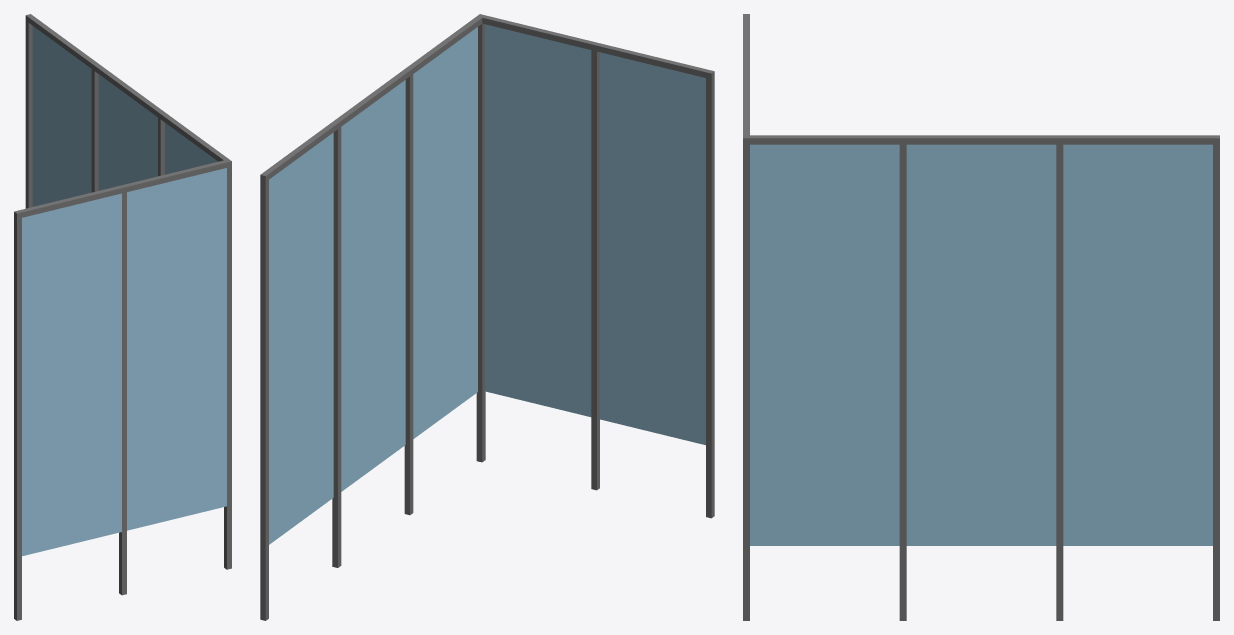
The model's file is Blind.fbx.
The picture shows the model from 3 angles, left to right: view 1: azimuth 30°, elevation 25°; view 2: azimuth 150°, elevation 25°; view 3: azimuth 270°, elevation 25°; orthographic projection. The views are drawn at different scales.
Parts seen in each view (by area): view 1: Plane, Plane.001, Cube, Plane.004, Plane.003, Plane.002; view 2: Plane.001, Plane, Cube, Plane.004, Plane.002, Plane.003; view 3: Plane.003, Plane.002, Plane.004, Cube.
Boxes of the visible parts, x1=… form: Plane: x1=22, y1=193, x2=121, y2=556; Plane.001: x1=127, y1=168, x2=226, y2=530; Cube: x1=14, y1=14, x2=231, y2=620; Plane.004: x1=32, y1=26, x2=91, y2=206; Plane.003: x1=98, y1=74, x2=157, y2=190; Plane.002: x1=165, y1=123, x2=217, y2=174; Plane.001: x1=485, y1=24, x2=591, y2=416; Plane: x1=599, y1=52, x2=705, y2=445; Cube: x1=260, y1=14, x2=714, y2=620; Plane.004: x1=269, y1=132, x2=333, y2=544; Plane.002: x1=413, y1=27, x2=477, y2=438; Plane.003: x1=341, y1=80, x2=405, y2=491; Plane.003: x1=906, y1=144, x2=1056, y2=545; Plane.002: x1=750, y1=144, x2=899, y2=545; Plane.004: x1=1063, y1=144, x2=1212, y2=545; Cube: x1=743, y1=14, x2=1219, y2=620.
Size of the model in its own units: 210 by 380 by 340.
